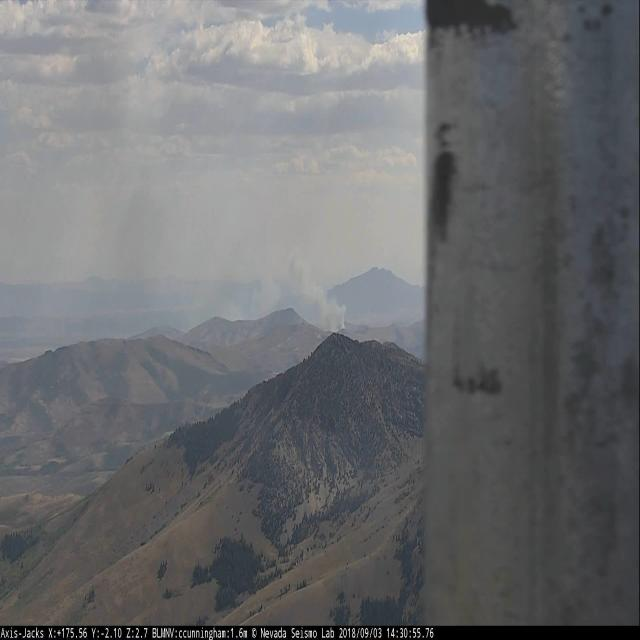smoke: (255, 252, 346, 332)
